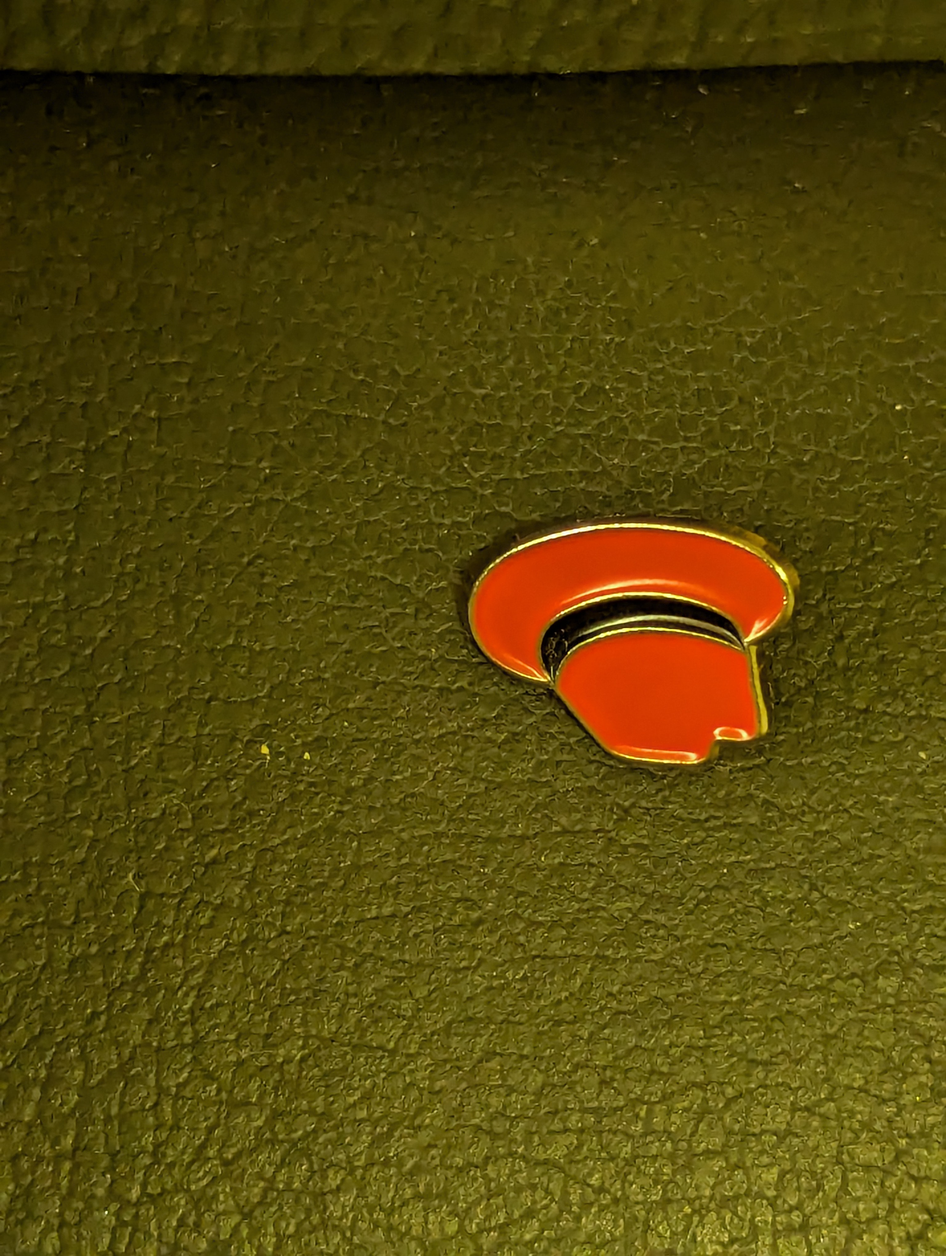Red-Hat: (368, 430, 899, 866)
